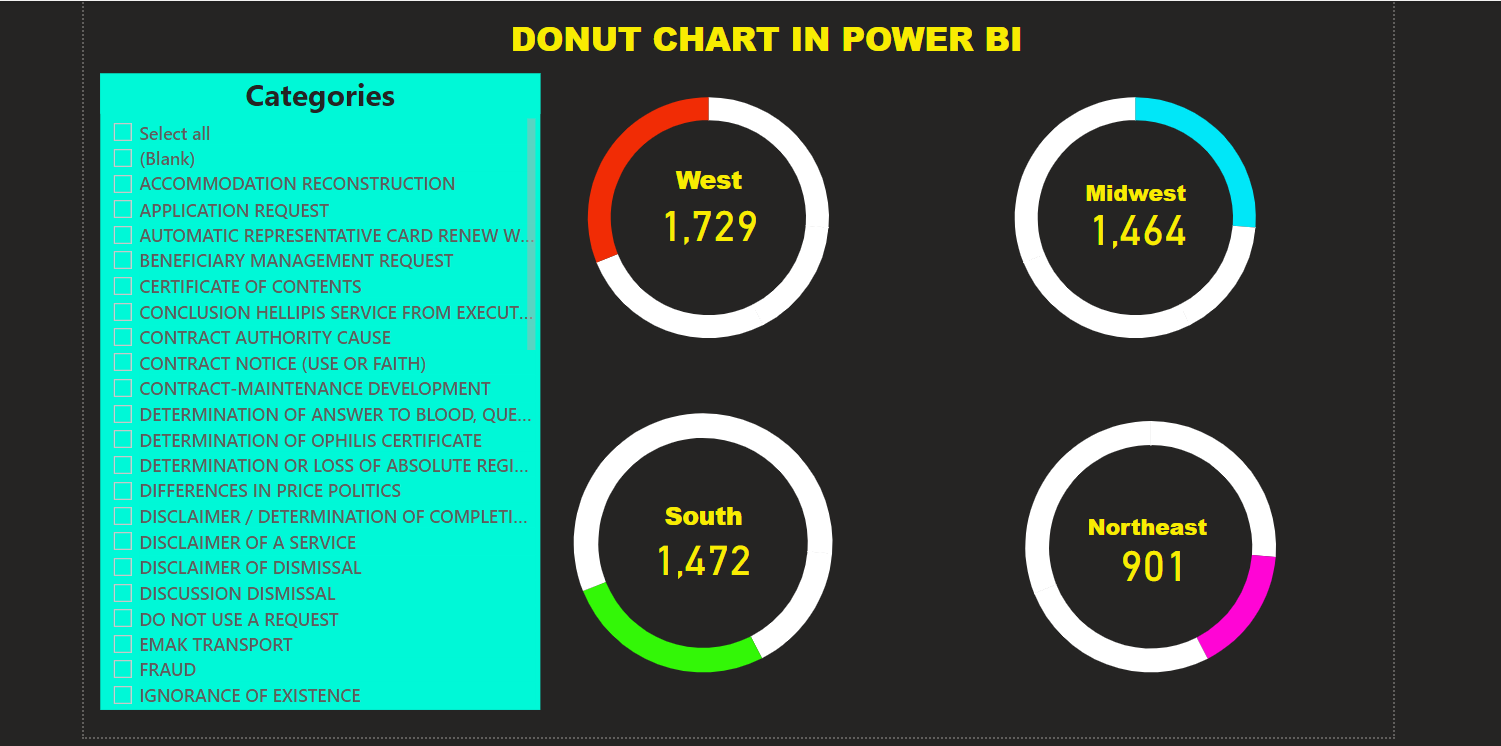

The page's visual inventory and layout, read from the dashboard file:
{"tool":"powerbi","page":{"name":"donut chart","canvas":[1280,720],"ordinal":0},"visuals":[{"type":"donutChart","fields":{"Y":["Key Measures.No. Of Complaints"],"Series":["State Regions.Region"]},"box":[426.6,59.9,367.9,304.4],"z":0,"group":"g1"},{"type":"slicer","title":"Categories","fields":{"Values":["Categories.Description"]},"box":[15.9,70.9,430.3,622.2],"z":0},{"type":"group","id":"g1","title":"Group 1","box":[426.6,59.9,367.9,304.4],"z":1000},{"type":"card","fields":{"Values":["Key Measures.No. Of Complaints"]},"box":[502.9,165.2,217.6,101.5],"z":1000,"group":"g1"},{"type":"card","fields":{"Values":["Key Measures.No. Of Complaints"]},"box":[954.8,190.2,151.6,57.5],"z":1000,"group":"g2"},{"type":"card","fields":{"Values":["Key Measures.No. Of Complaints"]},"box":[973.7,505.9,144.2,85.6],"z":1000,"group":"g3"},{"type":"card","fields":{"Values":["Key Measures.No. Of Complaints"]},"box":[527.7,506.5,154,73.3],"z":1000,"group":"g4"},{"type":"textbox","box":[566.2,153.1,90,51.7],"z":2000,"group":"g1"},{"type":"textbox","box":[973.9,167.5,136.9,44],"z":2000,"group":"g2"},{"type":"donutChart","fields":{"Y":["Key Measures.No. Of Complaints"],"Series":["State Regions.Region"]},"box":[404.6,366.7,402.2,326.4],"z":2000},{"type":"textbox","box":[526.9,481.6,157.7,44],"z":2000,"group":"g4"},{"type":"textbox","box":[968.1,493.9,143,45.2],"z":2000,"group":"g3"},{"type":"donutChart","fields":{"Y":["Key Measures.No. Of Complaints"],"Series":["State Regions.Region"]},"box":[834.9,59.9,386.3,304.4],"z":3000},{"type":"donutChart","fields":{"Y":["Key Measures.No. Of Complaints"],"Series":["State Regions.Region"]},"box":[845.9,375.3,394.8,316.6],"z":4000},{"type":"group","id":"g2","title":"Group 1","box":[954.8,167.5,156,80.1],"z":5000},{"type":"group","id":"g3","title":"Group 1","box":[968.1,493.9,150.4,97.8],"z":6000},{"type":"group","id":"g4","title":"Group 1","box":[526.9,481.6,157.7,97.8],"z":7000},{"type":"textbox","box":[288.5,8.6,757.9,62.3],"z":8000}]}

Visuals, with their boxes on the page's 1280x720 design canvas (x1, y1, x2, y2). These are canvas units, not pixel positions in the 1501x746 screenshot, which may show the page scaled, cropped or inside an application window:
donutChart - Key Measures.No. Of Complaints x State Regions.Region: <box>427,60,794,364</box>
"Categories" slicer: <box>16,71,446,693</box>
"Group 1" group: <box>427,60,794,364</box>
card - Key Measures.No. Of Complaints: <box>503,165,720,267</box>
card - Key Measures.No. Of Complaints: <box>955,190,1106,248</box>
card - Key Measures.No. Of Complaints: <box>974,506,1118,592</box>
card - Key Measures.No. Of Complaints: <box>528,506,682,580</box>
textbox: <box>566,153,656,205</box>
textbox: <box>974,168,1111,212</box>
donutChart - Key Measures.No. Of Complaints x State Regions.Region: <box>405,367,807,693</box>
textbox: <box>527,482,685,526</box>
textbox: <box>968,494,1111,539</box>
donutChart - Key Measures.No. Of Complaints x State Regions.Region: <box>835,60,1221,364</box>
donutChart - Key Measures.No. Of Complaints x State Regions.Region: <box>846,375,1241,692</box>
"Group 1" group: <box>955,168,1111,248</box>
"Group 1" group: <box>968,494,1118,592</box>
"Group 1" group: <box>527,482,685,579</box>
textbox: <box>288,9,1046,71</box>
